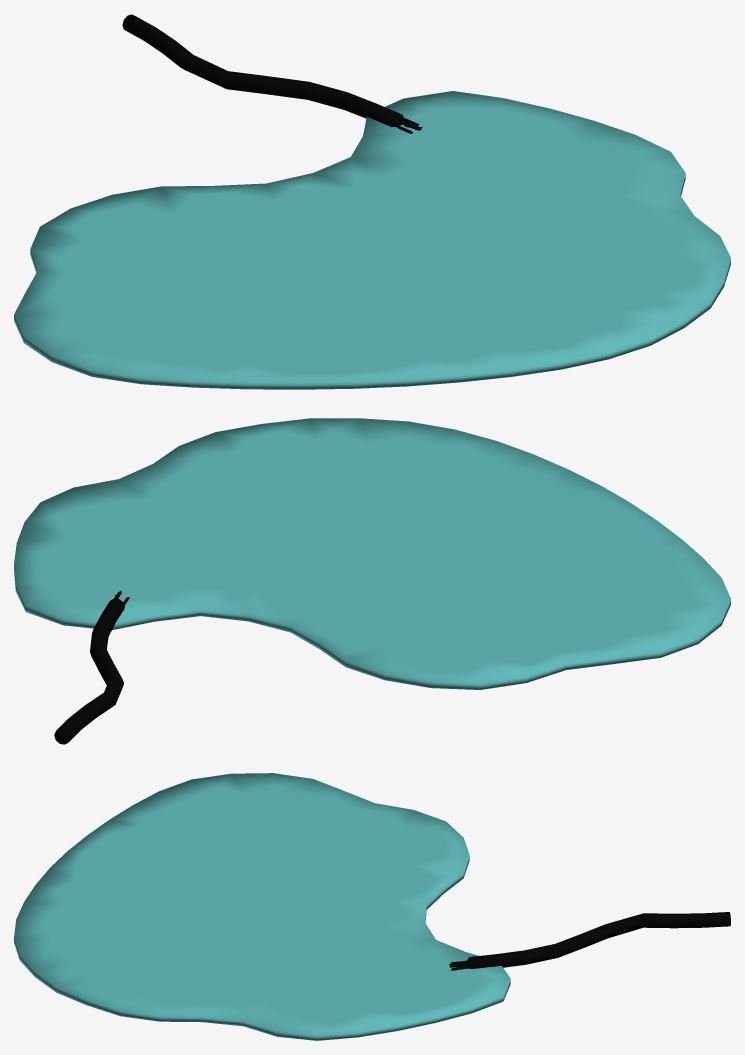
The model's file is Charco.obj.
The picture shows the model from 3 angles, top to bottom: view 1: azimuth 30°, elevation 25°; view 2: azimuth 150°, elevation 25°; view 3: azimuth 270°, elevation 25°; orthographic projection. The views are drawn at different scales.
Visible parts, largest first — view 1: Line001, Line002; view 2: Line001, Line002; view 3: Line001, Line002.
Boxes of the visible parts, x1,y1,x2,y2 form: Line001: [14, 91, 730, 389]; Line002: [122, 14, 422, 133]; Line001: [14, 418, 730, 689]; Line002: [54, 591, 129, 744]; Line001: [14, 773, 510, 1040]; Line002: [449, 912, 730, 970].
Size of the model in its own units: 14.45 by 0.4697 by 16.69.
Materials: 2 (1 with a texture image).
